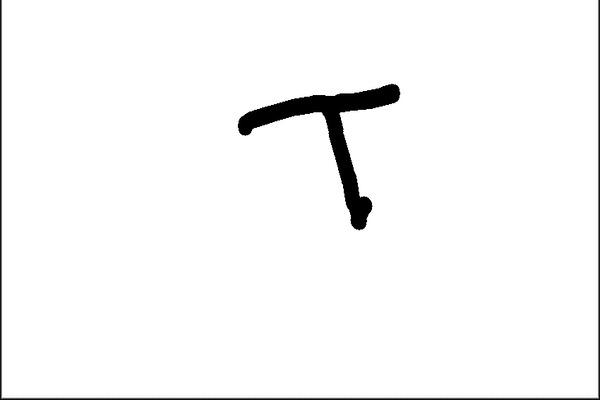T: (223, 79, 419, 239)
